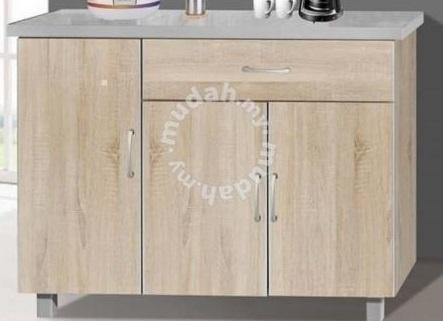cabinet_door: (6, 40, 139, 300), (266, 103, 391, 295), (145, 101, 266, 299), (148, 44, 396, 104)
handle: (238, 63, 295, 80), (249, 166, 264, 221), (126, 126, 139, 178), (269, 171, 279, 223)
